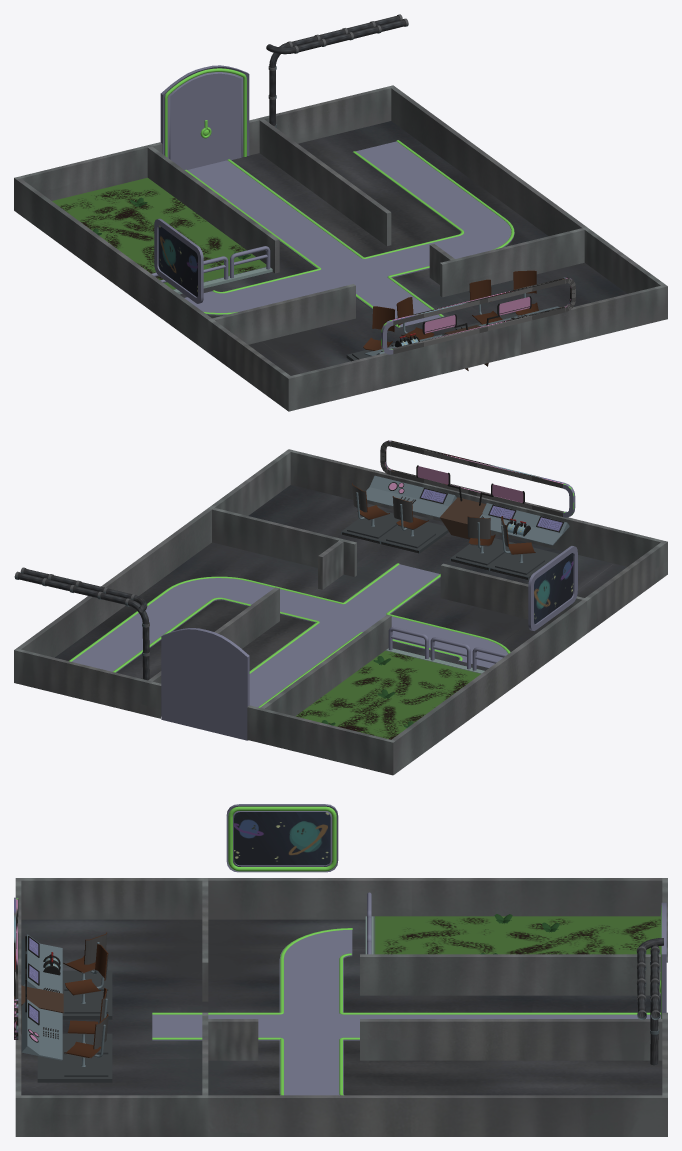
The model's file is context_spaceship_02.FBX.
3 views of the same model, one above another, from view 1: azimuth 30°, elevation 25°; view 2: azimuth 150°, elevation 25°; view 3: azimuth 270°, elevation 25° (orthographic). The views are drawn at different scales.
Parts seen in each view (by area): view 1: Object001; view 2: Object001; view 3: Object001.
Part boxes in pixels (bbox=[...]): Object001: bbox=[14, 14, 667, 411]; Object001: bbox=[14, 440, 667, 775]; Object001: bbox=[14, 804, 667, 1136].
Bounding box in the file's own units: 183 × 51.6 × 228.
Materials: 7 (7 with a texture image).
